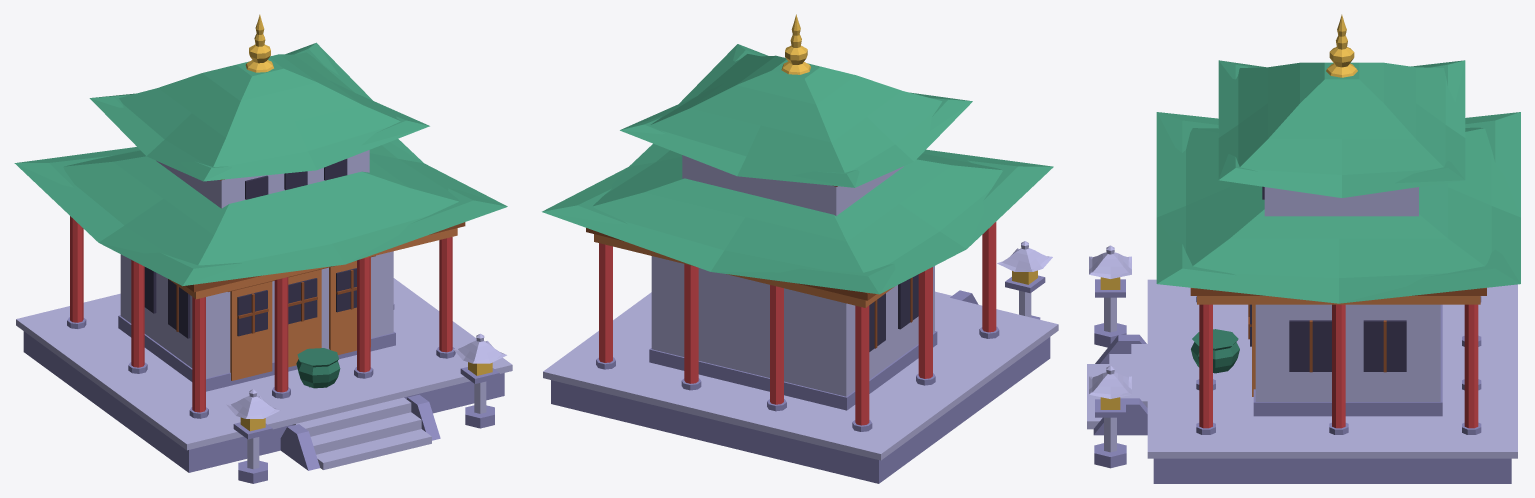
Rendered from buddhist-temple.glb.
3 views of the same model, side by side, from view 1: azimuth 30°, elevation 25°; view 2: azimuth 150°, elevation 25°; view 3: azimuth 270°, elevation 25° (orthographic). The views are drawn at different scales.
Parts seen in each view (by area): view 1: Temple; view 2: Temple; view 3: Temple.
Part boxes in pixels (<box>): Temple: <box>14,14,512,483</box>; Temple: <box>542,14,1058,483</box>; Temple: <box>1087,14,1520,483</box>.
Size of the model in its own units: 6.6 by 6.91 by 7.03.
